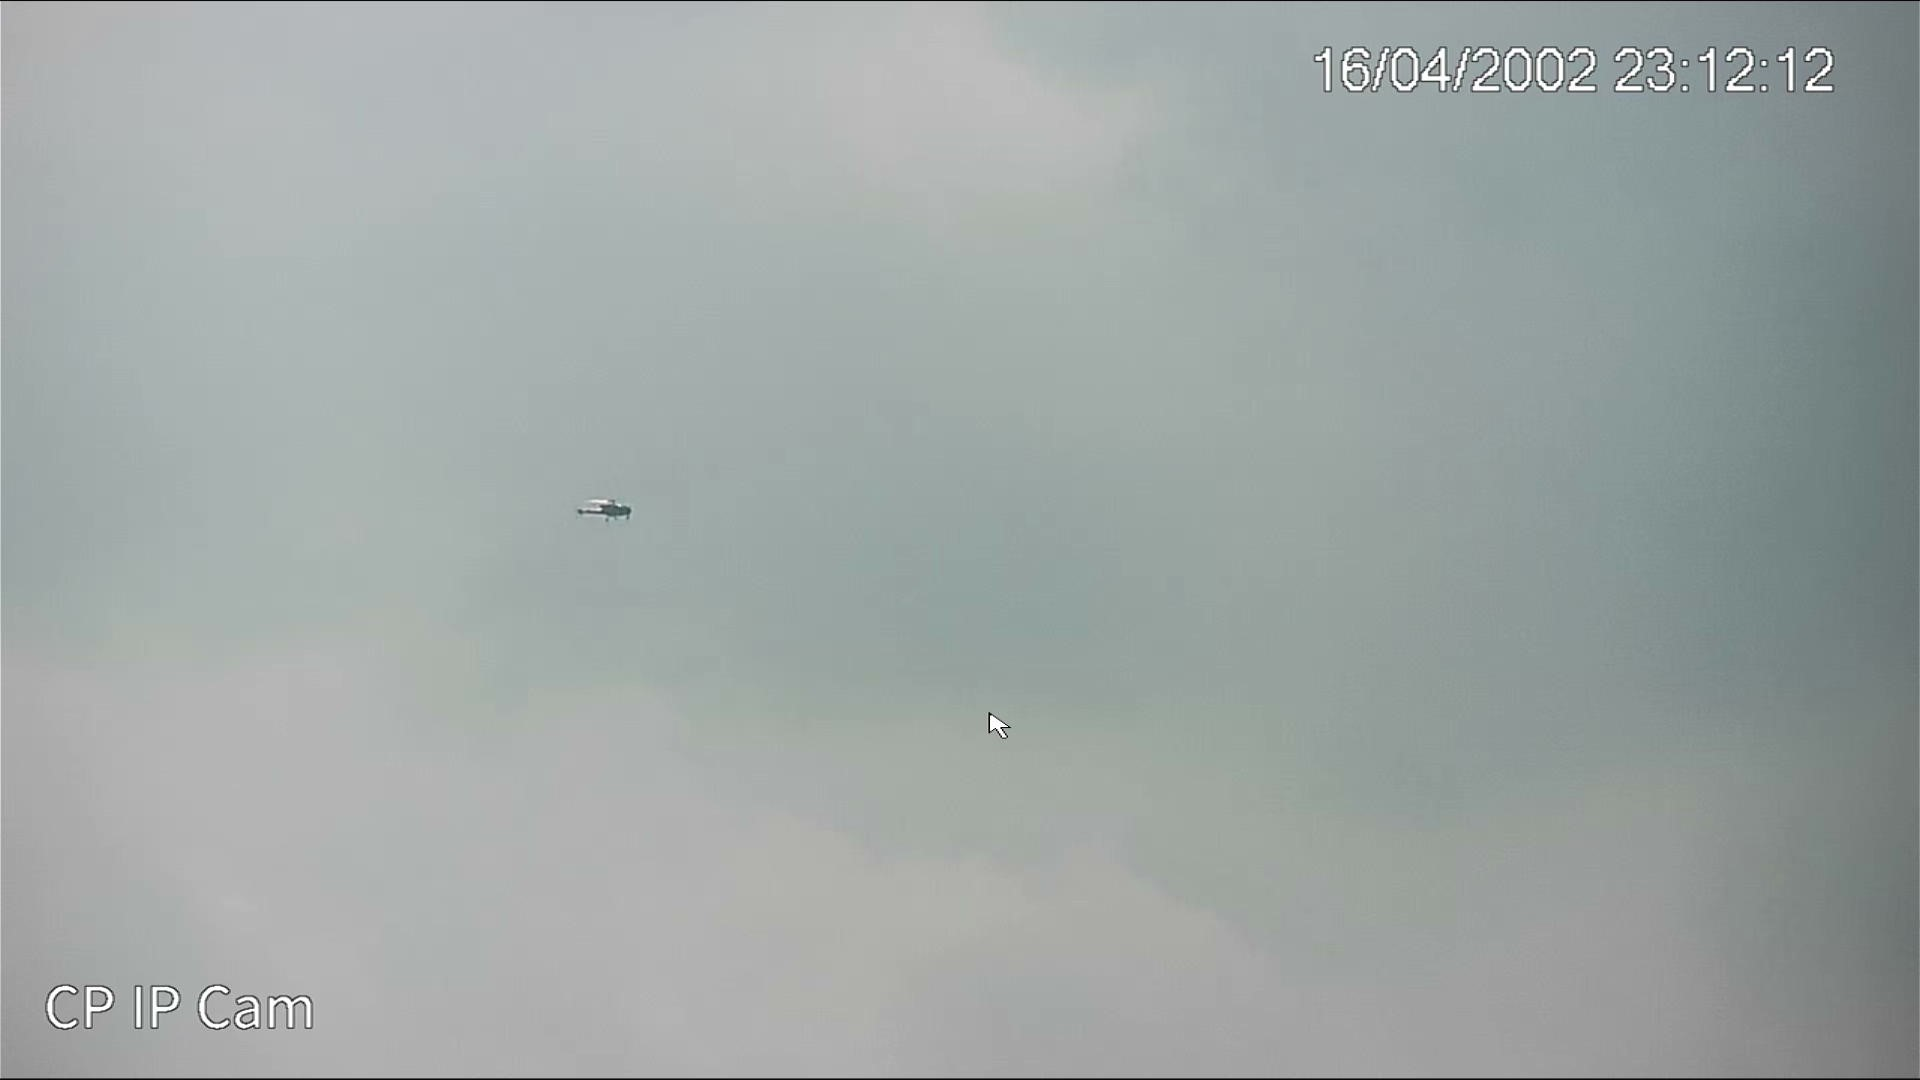SU_30: (574, 498, 632, 520)
